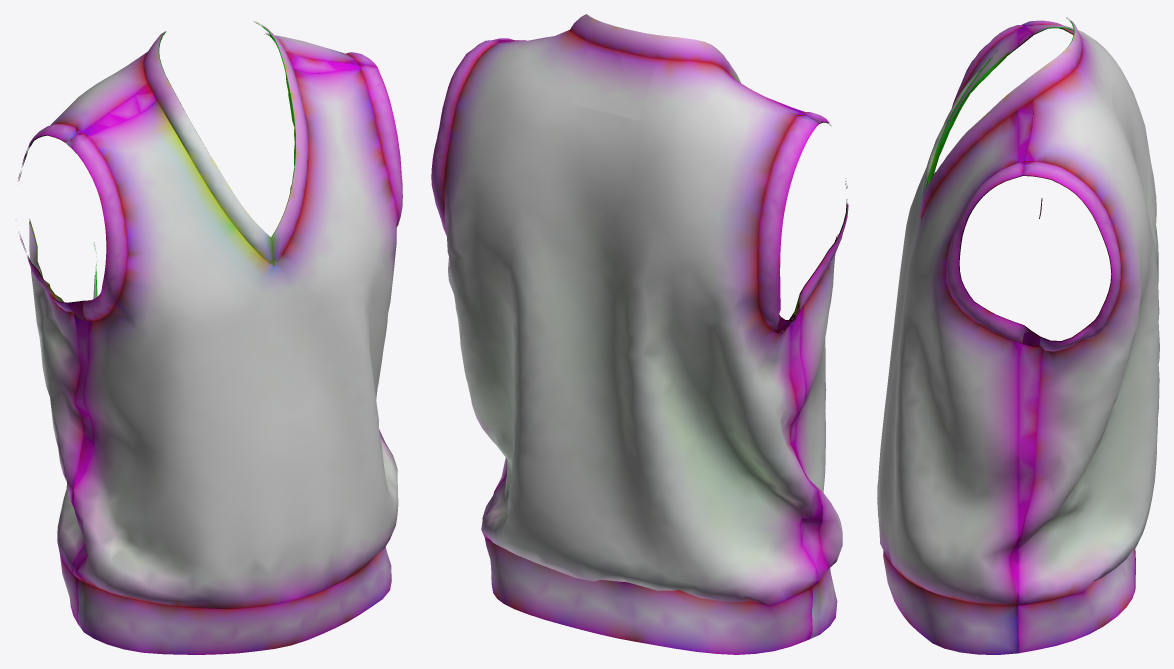
The model's file is knitvest.glb.
3 views of the same model, side by side, from view 1: azimuth 30°, elevation 25°; view 2: azimuth 150°, elevation 25°; view 3: azimuth 270°, elevation 25° (orthographic). The views are drawn at different scales.
Visible parts, largest first — view 1: front, back; view 2: back, front; view 3: back, front.
Boxes of the visible parts, <box> form: front: <box>66,20,402,654</box>; back: <box>18,33,376,626</box>; back: <box>431,30,819,654</box>; front: <box>492,14,848,638</box>; back: <box>1018,20,1159,653</box>; front: <box>877,17,1082,654</box>.
Size of the model in its own units: 0.3871 by 0.6395 by 0.2927.
